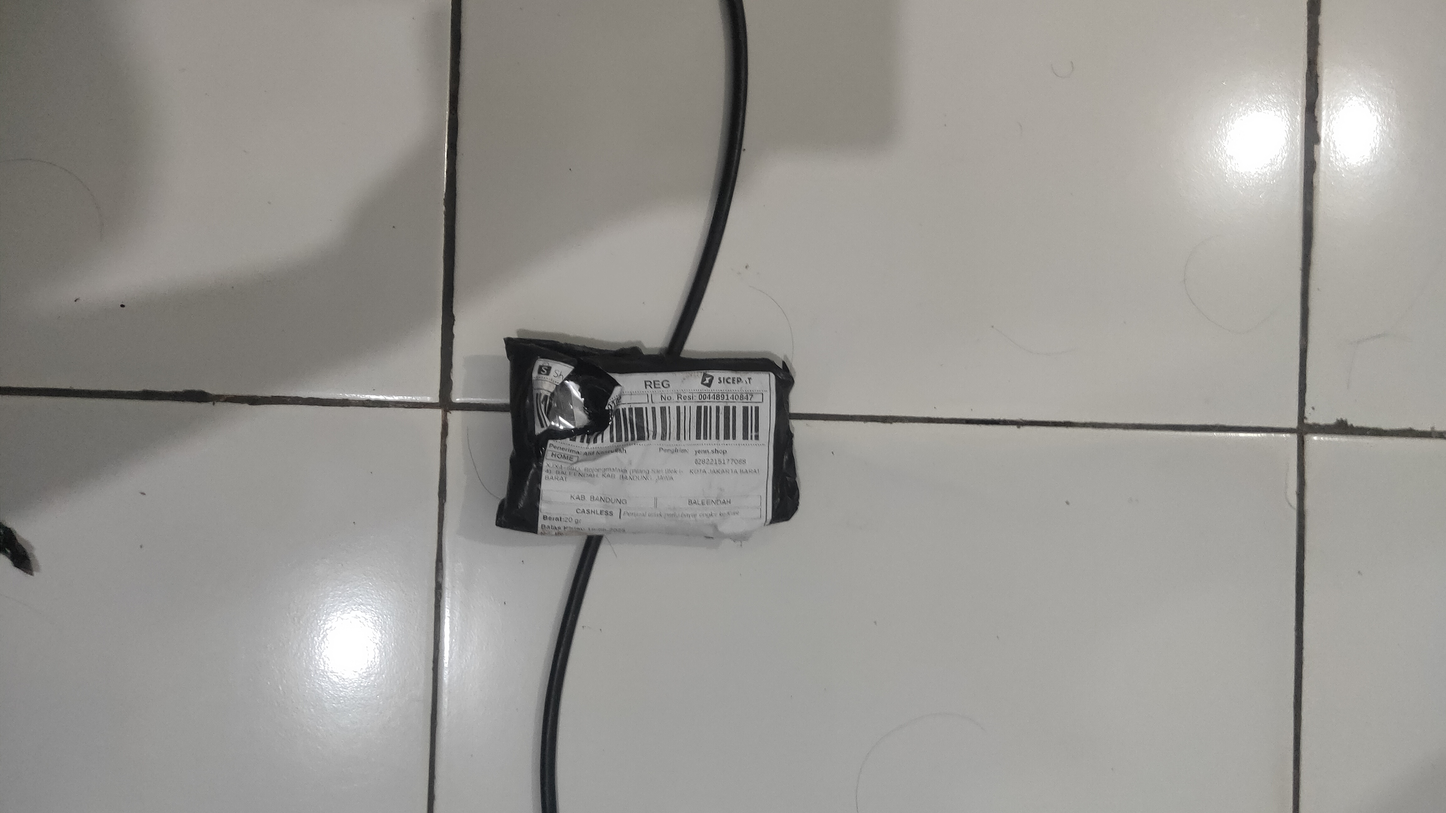damaged package: (538, 361, 625, 449)
undamaged: (491, 334, 804, 543)
